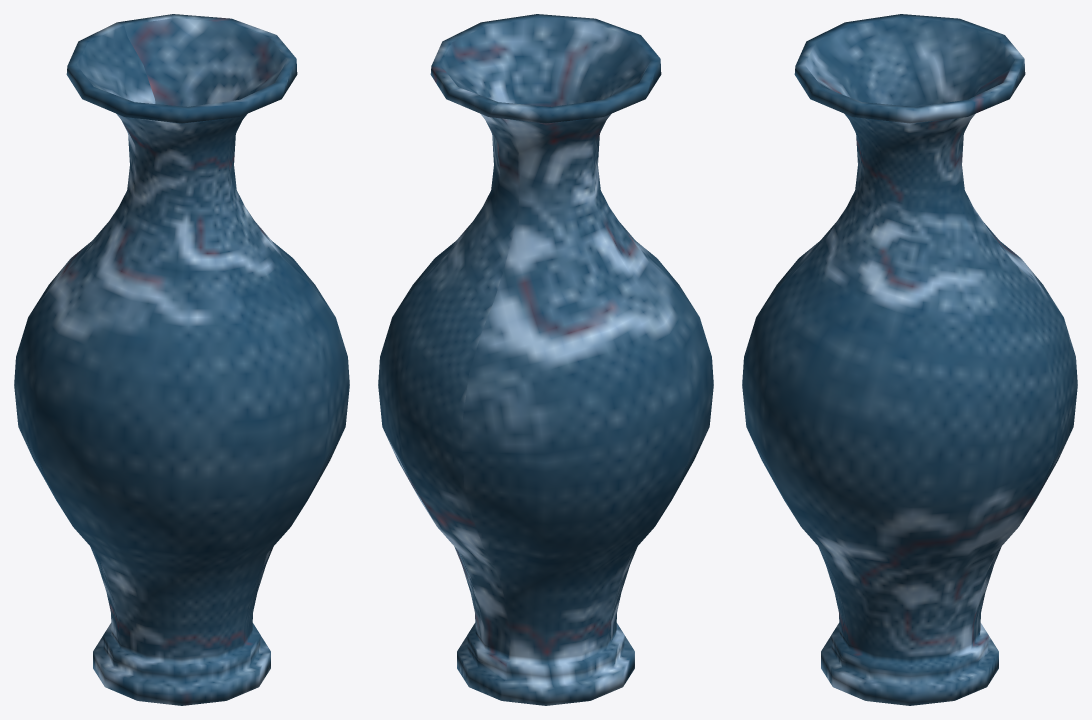
The model's file is vase_2.fbx.
The picture shows the model from 3 angles, left to right: view 1: azimuth 30°, elevation 25°; view 2: azimuth 150°, elevation 25°; view 3: azimuth 270°, elevation 25°; orthographic projection.
Visible parts, largest first — view 1: vase_2; view 2: vase_2; view 3: vase_2.
Boxes of the visible parts, box(x1,y1,x2,y2) form: vase_2: box(14, 14, 349, 705); vase_2: box(378, 14, 713, 705); vase_2: box(742, 14, 1077, 705).
Size of the model in its own units: 17.71 by 35.27 by 17.71.
